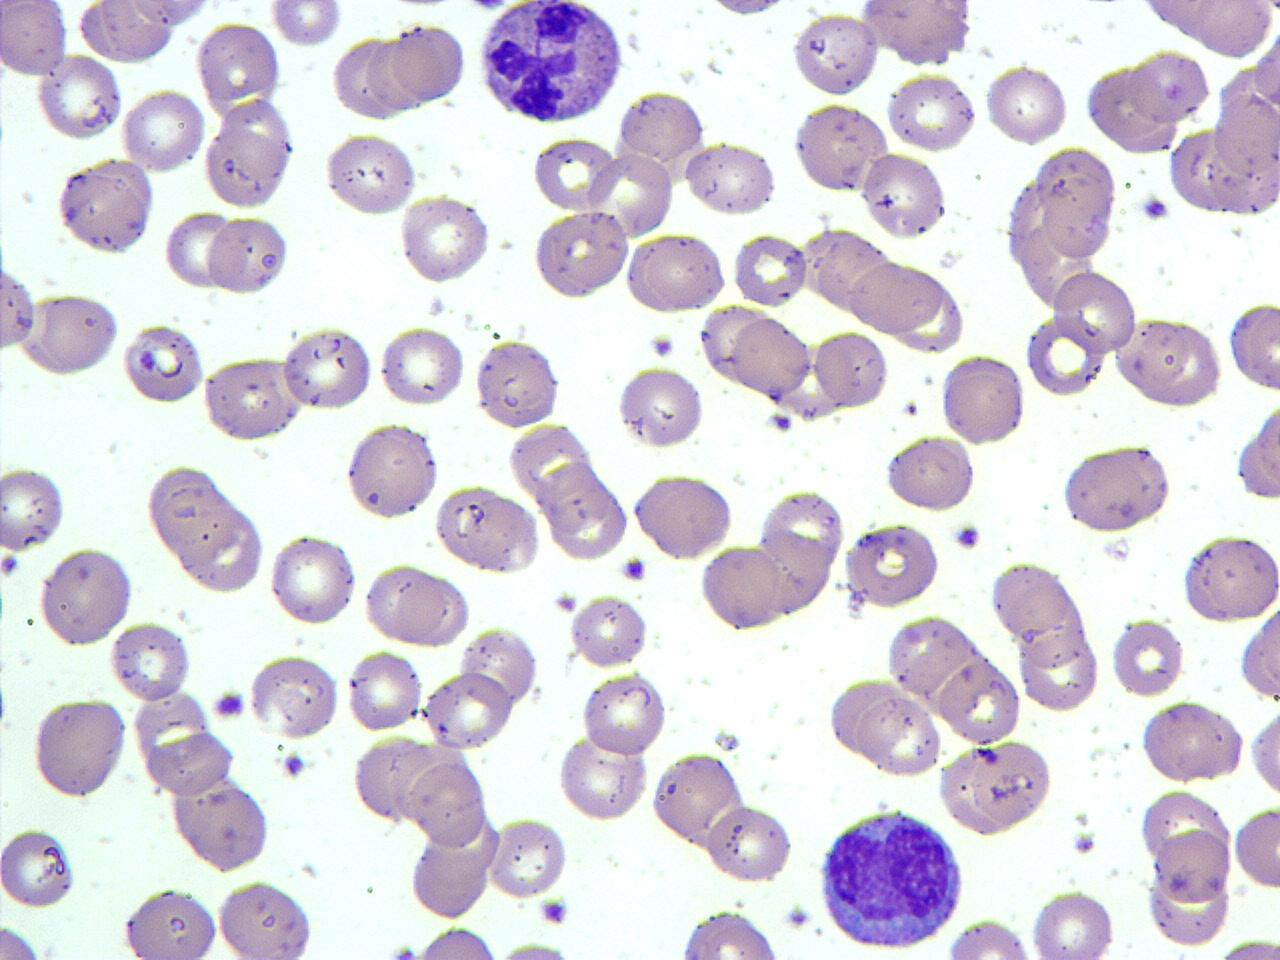Platelets: (496, 938, 572, 960), (210, 686, 248, 721), (536, 894, 574, 928), (1139, 192, 1171, 224), (784, 899, 814, 932), (952, 520, 982, 551), (280, 750, 308, 781), (620, 554, 648, 583), (648, 332, 676, 360), (0, 678, 13, 734), (712, 728, 742, 752), (384, 940, 420, 960), (461, 0, 508, 14), (551, 589, 577, 615), (766, 410, 793, 434), (0, 552, 20, 579), (1072, 832, 1096, 854)
RBC: (936, 738, 1056, 838), (1167, 120, 1280, 219), (168, 770, 274, 874), (1059, 442, 1173, 536), (36, 545, 135, 647), (30, 696, 128, 800), (1117, 314, 1221, 410), (432, 482, 540, 575), (343, 421, 442, 520), (630, 472, 736, 562), (790, 99, 890, 194), (1180, 531, 1280, 626), (530, 208, 632, 301), (1137, 699, 1245, 785), (1037, 144, 1117, 260), (842, 520, 944, 610), (623, 230, 729, 316), (398, 193, 494, 286), (202, 354, 301, 443), (650, 752, 744, 846), (470, 337, 564, 430), (191, 20, 282, 117), (321, 130, 420, 218), (145, 462, 234, 560), (280, 323, 374, 414), (25, 290, 121, 380), (268, 531, 357, 628), (1082, 63, 1176, 152), (853, 0, 975, 69), (217, 876, 316, 960), (789, 9, 882, 99), (538, 467, 624, 564), (580, 668, 669, 759), (555, 734, 649, 822), (940, 352, 1027, 447), (407, 825, 493, 921), (180, 500, 266, 596), (33, 52, 123, 143), (202, 120, 290, 212), (861, 151, 949, 242), (616, 362, 705, 452), (120, 85, 207, 176), (250, 652, 340, 740), (700, 541, 783, 634), (886, 72, 980, 154), (883, 433, 977, 514), (684, 138, 780, 218), (984, 61, 1070, 148), (1016, 626, 1102, 714), (378, 323, 466, 408), (750, 534, 838, 619), (707, 802, 794, 886), (362, 562, 452, 644), (120, 884, 218, 960), (848, 258, 942, 336), (1052, 268, 1138, 354), (206, 212, 290, 298), (422, 671, 513, 751), (122, 321, 207, 406), (759, 486, 846, 570), (109, 617, 193, 704), (825, 674, 907, 762), (352, 734, 430, 826), (860, 693, 942, 779), (732, 314, 813, 401), (940, 658, 1021, 747), (885, 612, 971, 695), (600, 150, 678, 240), (489, 814, 568, 902), (988, 559, 1076, 637), (530, 134, 620, 212), (1025, 312, 1105, 398), (412, 758, 488, 849), (1, 822, 77, 912), (812, 326, 890, 412), (346, 646, 422, 734), (460, 626, 540, 708), (616, 89, 706, 161), (1029, 886, 1117, 960), (1109, 615, 1185, 699), (570, 591, 650, 670), (729, 229, 810, 306), (147, 728, 237, 798), (1, 462, 69, 554), (1153, 828, 1233, 906), (700, 304, 774, 387), (1131, 48, 1209, 125), (674, 906, 784, 960), (391, 22, 464, 104), (162, 208, 233, 291), (330, 39, 400, 122), (0, 0, 70, 80), (1234, 396, 1280, 508), (1186, 0, 1274, 58), (1227, 299, 1279, 395), (364, 37, 425, 114), (1239, 600, 1280, 704), (1233, 804, 1279, 891), (266, 0, 344, 50), (944, 916, 1034, 959), (0, 258, 37, 354), (414, 924, 501, 960), (1247, 708, 1279, 800), (118, 0, 219, 29), (0, 921, 46, 960)
WBC: (811, 803, 968, 956), (474, 0, 626, 130), (1008, 145, 1122, 288), (1208, 25, 1280, 215), (1168, 105, 1280, 223), (939, 737, 1056, 835), (1060, 442, 1174, 537), (169, 772, 276, 874), (54, 155, 158, 257), (1138, 698, 1246, 788), (790, 98, 890, 194), (632, 472, 735, 561), (531, 211, 629, 302), (857, 2, 978, 69), (1237, 397, 1280, 507)
